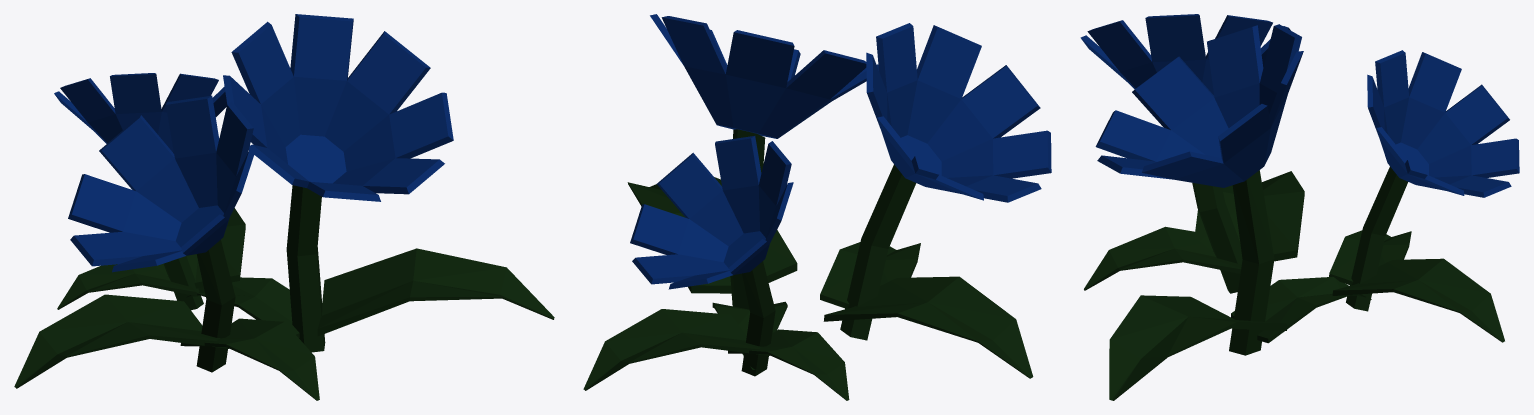
The model's file is Flower_03.obj.
3 views of the same model, side by side, from view 1: azimuth 30°, elevation 25°; view 2: azimuth 150°, elevation 25°; view 3: azimuth 270°, elevation 25° (orthographic). The views are drawn at different scales.
Visible parts, largest first — view 1: Flower_03_Cube.054; view 2: Flower_03_Cube.054; view 3: Flower_03_Cube.054.
Part boxes in pixels (left/top/right/bottom): Flower_03_Cube.054: left=14, top=14, right=554, bottom=400; Flower_03_Cube.054: left=583, top=14, right=1051, bottom=400; Flower_03_Cube.054: left=1080, top=14, right=1519, bottom=400.
Size of the model in its own units: 1.22 by 0.7723 by 1.01.
